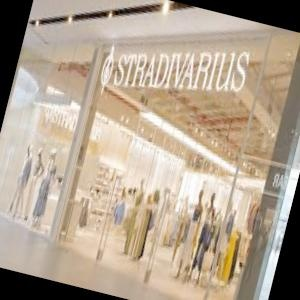stradivarius: (207, 17, 300, 50)
